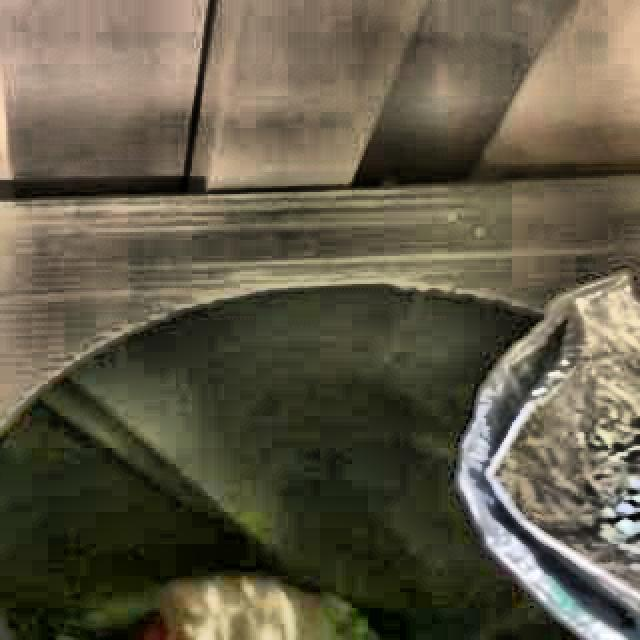metal: (461, 273, 640, 640), (165, 578, 351, 640)
